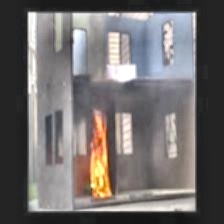fire: (85, 110, 112, 197)
